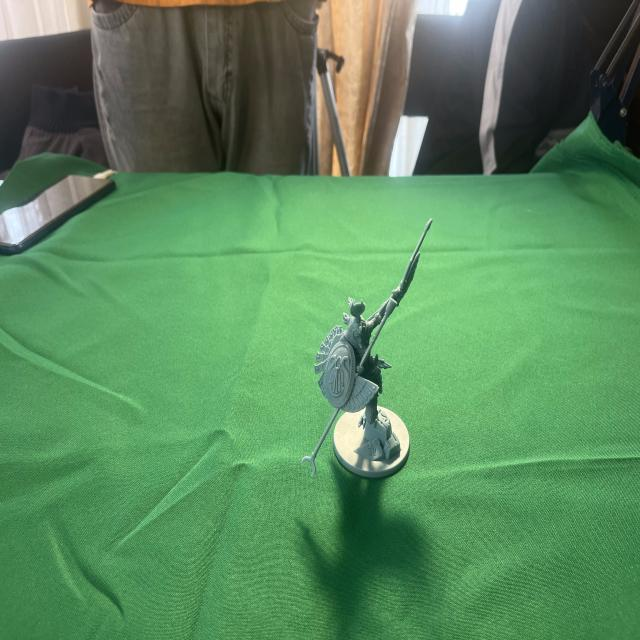isis: (298, 203, 454, 505)
